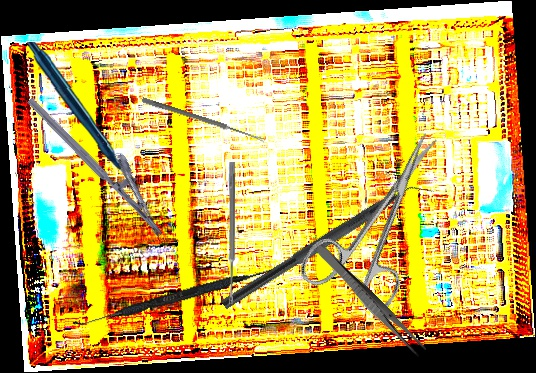Chopper: (220, 170, 436, 324)
Dressing Forceps: (312, 242, 428, 359)
Handpiece: (24, 42, 134, 191)
Iris Scissors: (295, 112, 475, 325)
Needle Holder: (26, 79, 182, 239)
Spatula Surgical: (72, 262, 273, 334)
Surgical Spoon: (141, 97, 266, 143), (228, 162, 235, 304)
